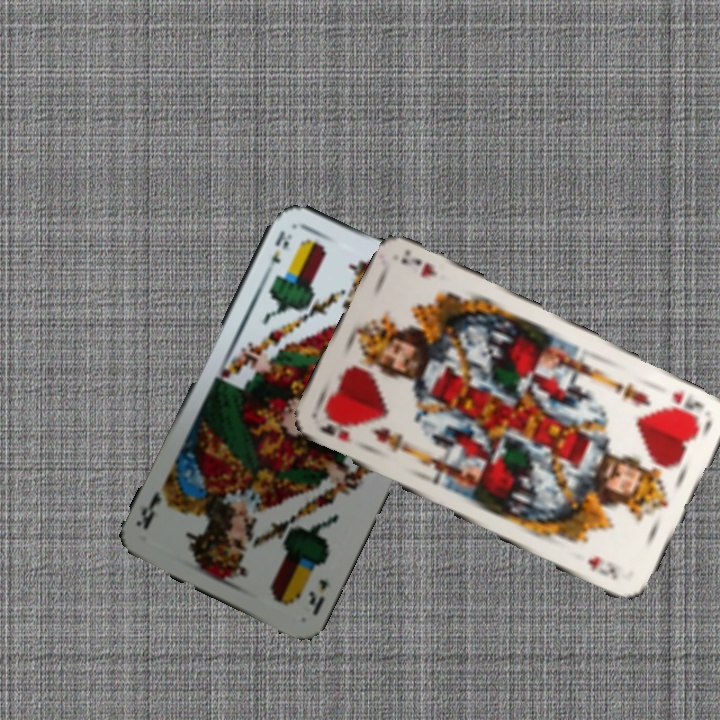EK: (261, 226, 296, 277), (305, 575, 331, 619)
HK: (667, 386, 707, 426), (315, 420, 356, 445)
